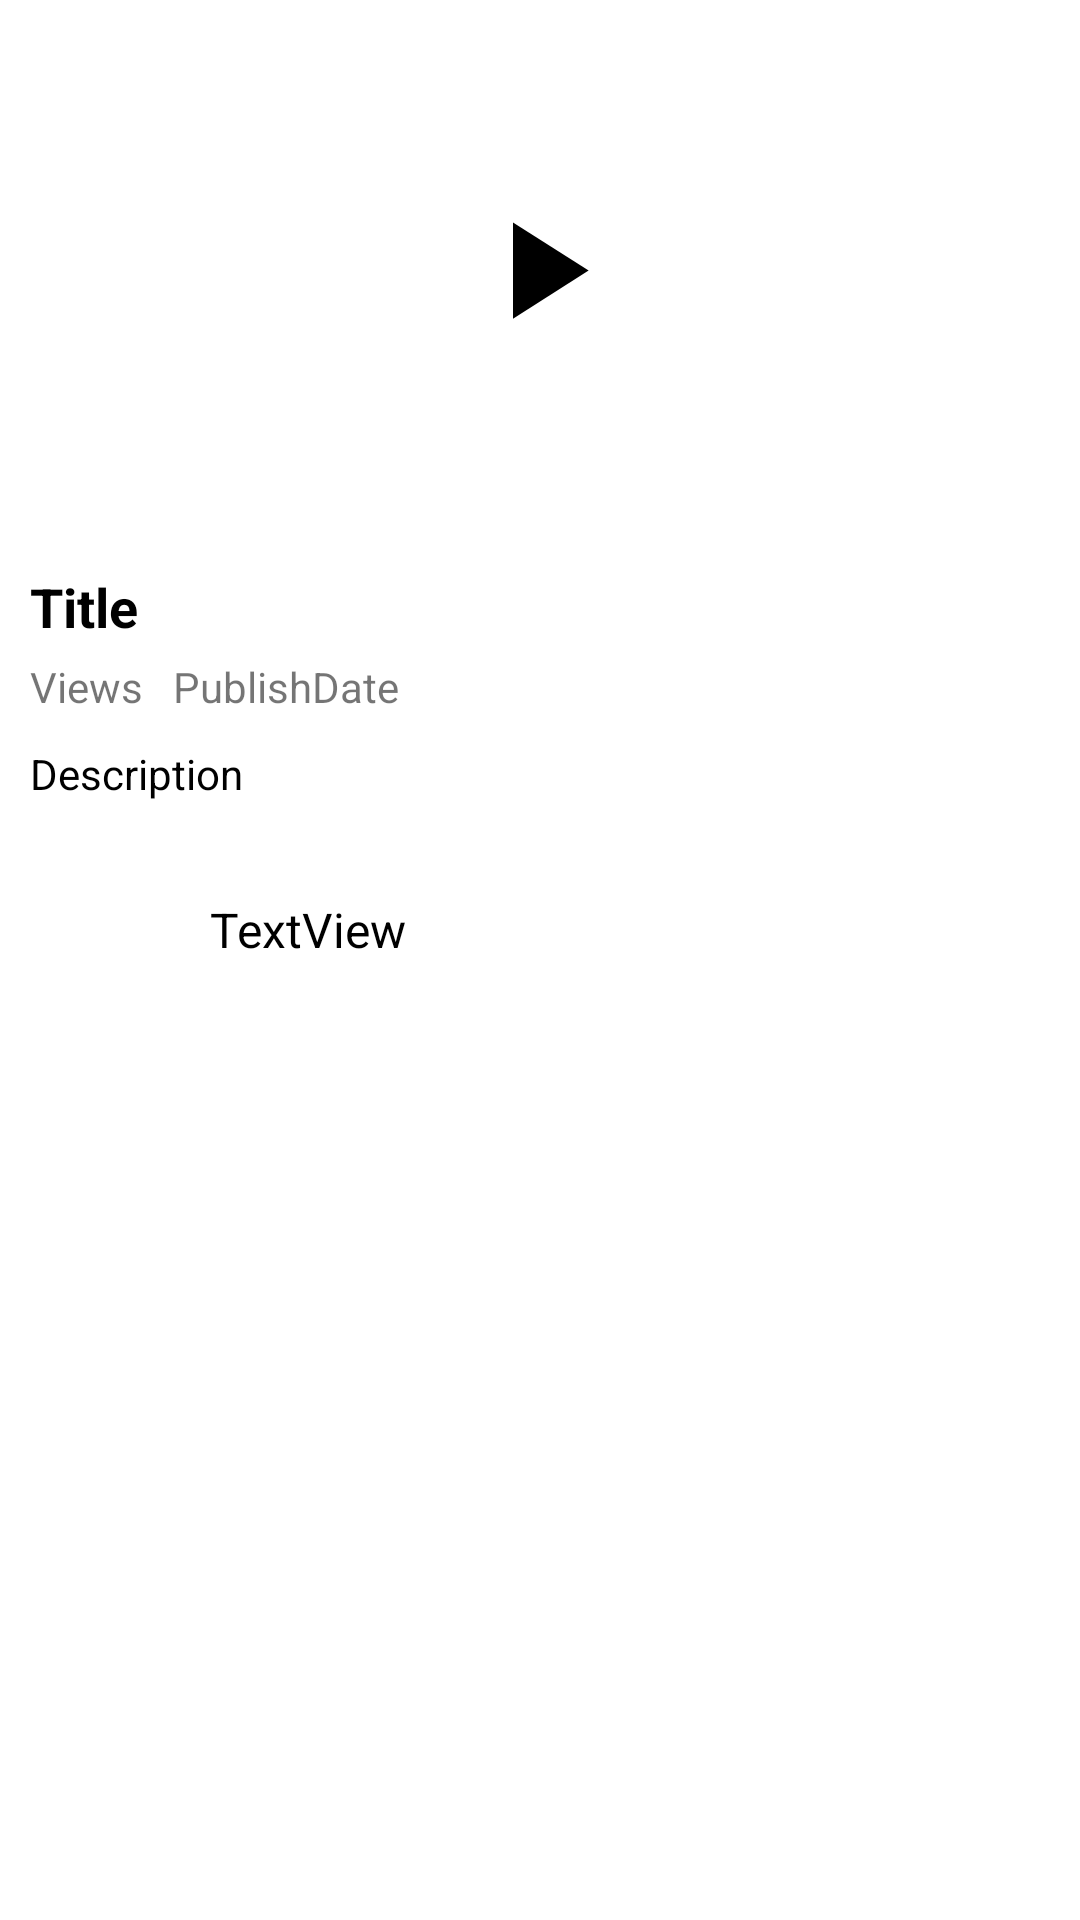

Named icons in this screenshot (1080x1920) and their bounding boxes, (x1, y1, x2, y2):
play arrow: (513, 222, 589, 319)
